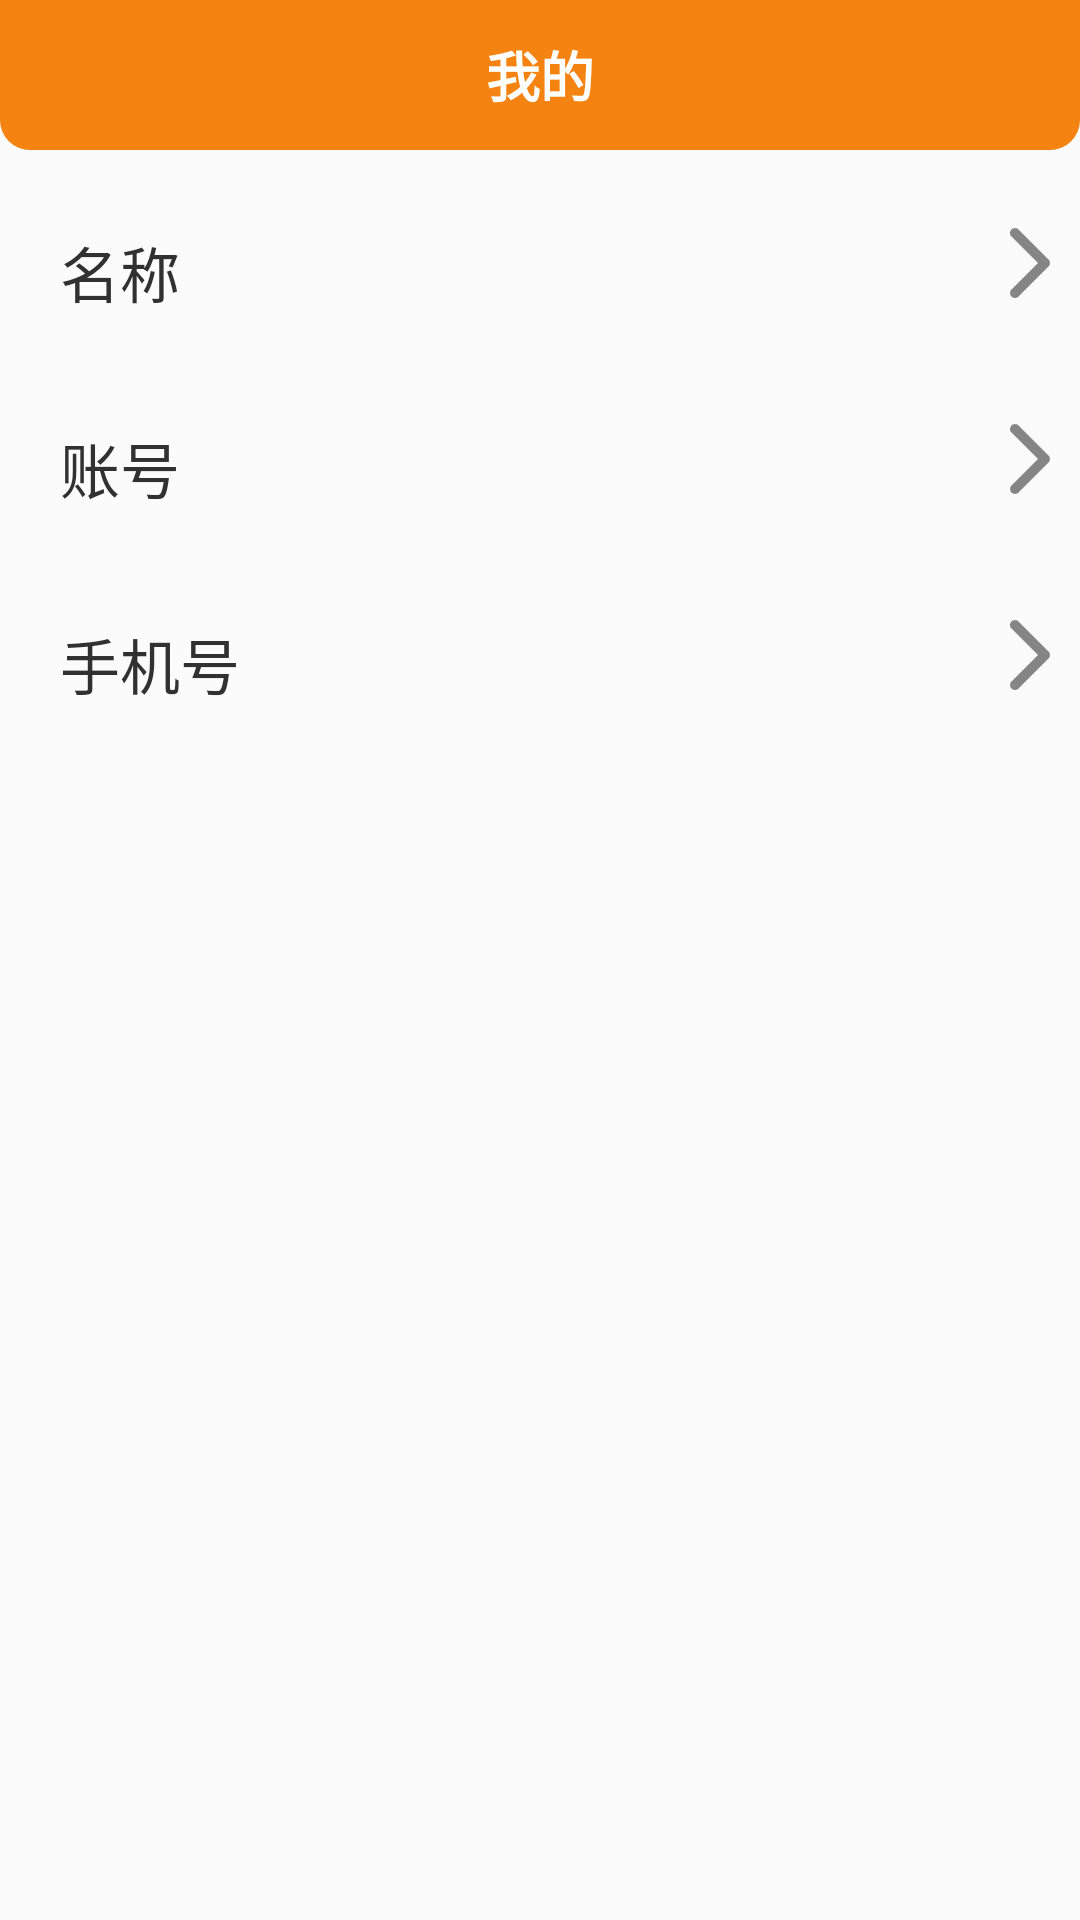

Icon bounding boxes for this 1080x1920 phone screenshot, format (x1, y1, x2, y2):
next: (1010, 228, 1050, 298), (1010, 424, 1050, 494), (1010, 620, 1050, 690)
